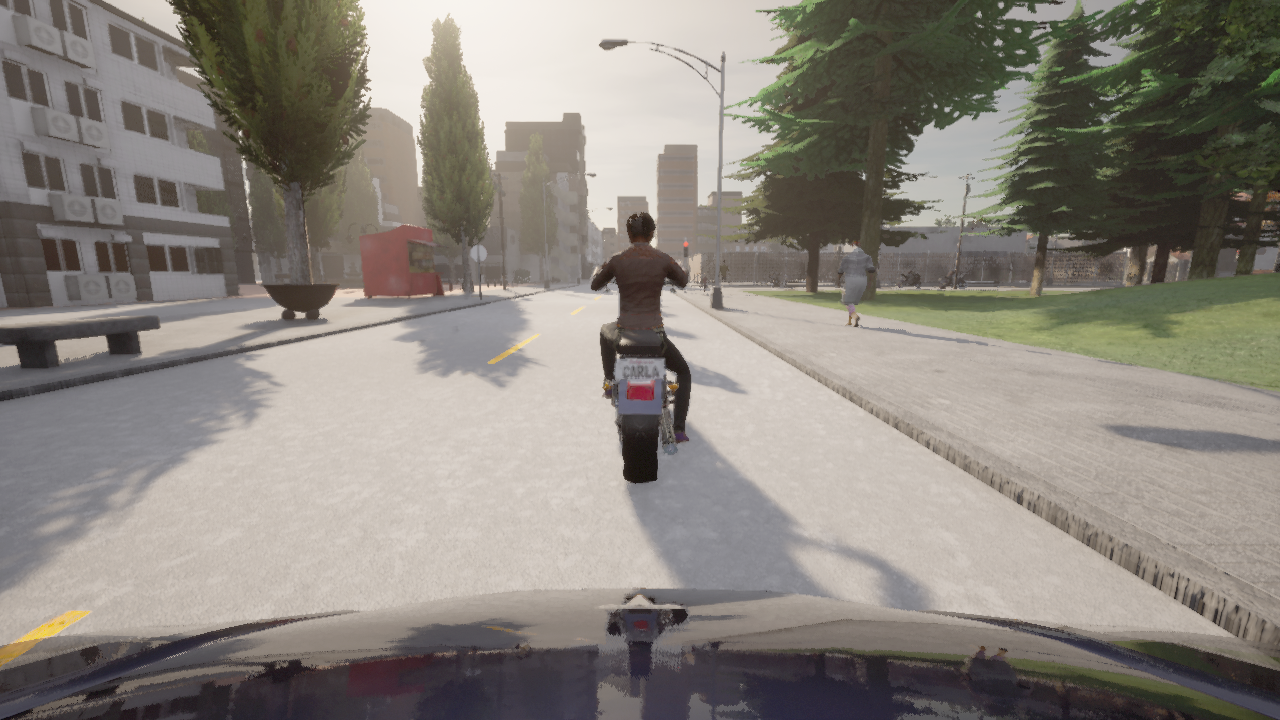cyclist: (0, 588, 1279, 719), (593, 265, 689, 484), (896, 272, 921, 289), (939, 273, 967, 287), (760, 274, 787, 286), (745, 272, 767, 280), (727, 268, 736, 277), (780, 271, 789, 277), (818, 269, 824, 277), (752, 273, 761, 277), (834, 272, 835, 273)
pedestrian: (836, 241, 876, 327), (719, 260, 729, 294), (701, 273, 708, 294)
